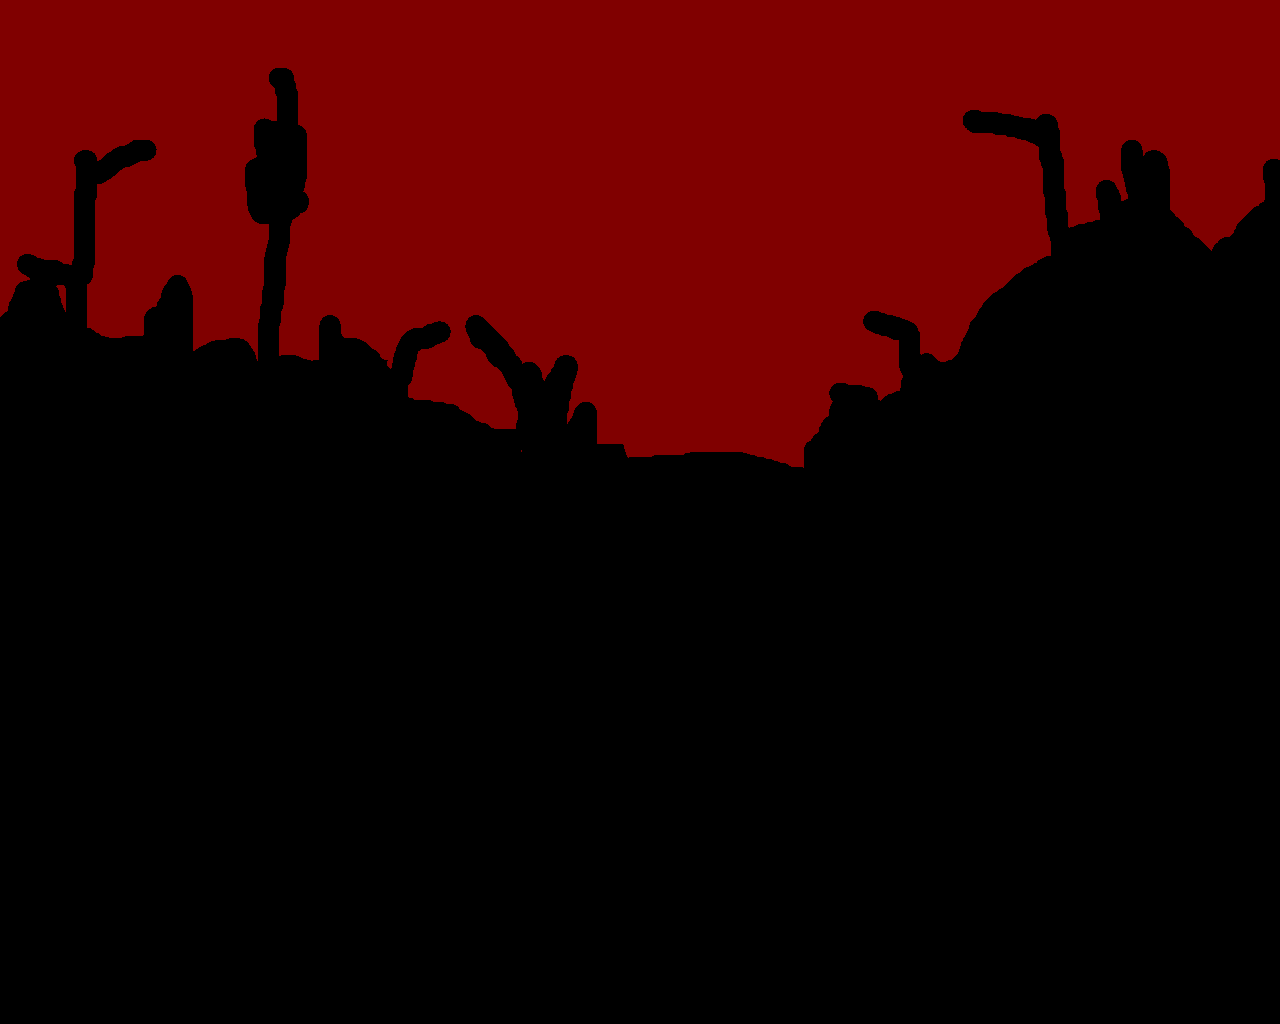Sky: (1, 1, 1279, 468)
